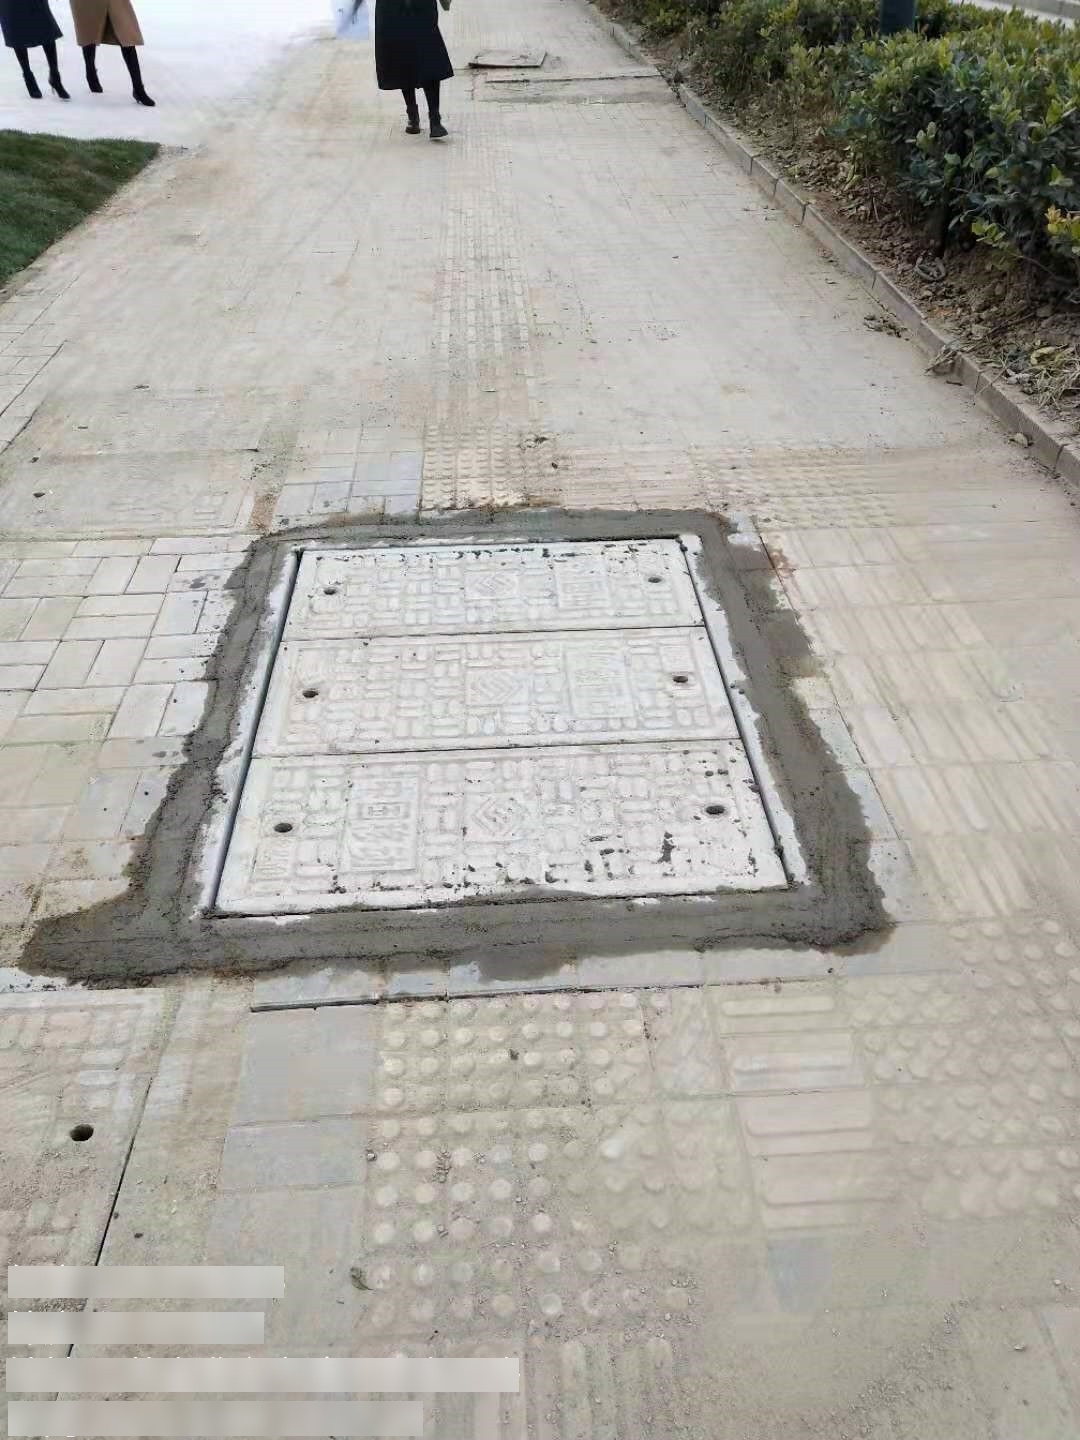well: (179, 530, 825, 921)
